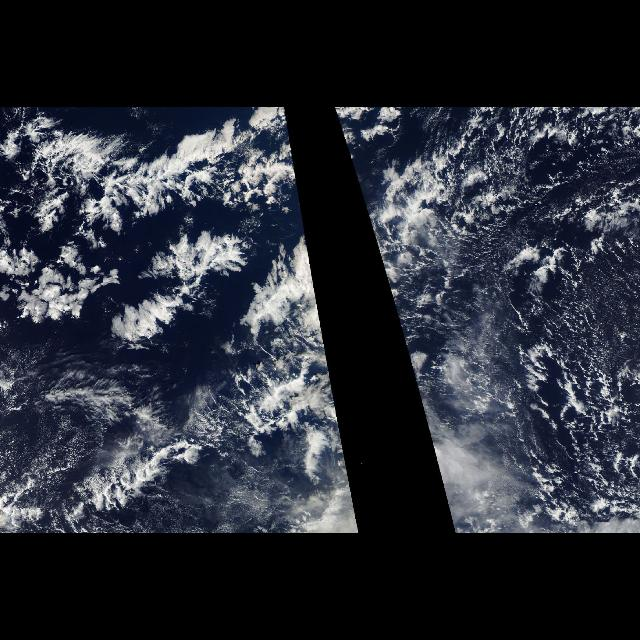Fish: (45, 354, 338, 502), (5, 107, 298, 233), (6, 236, 272, 352)
Flower: (3, 227, 248, 346)
Gravel: (388, 112, 640, 524), (11, 371, 235, 524)
Sugar: (544, 244, 632, 442)
